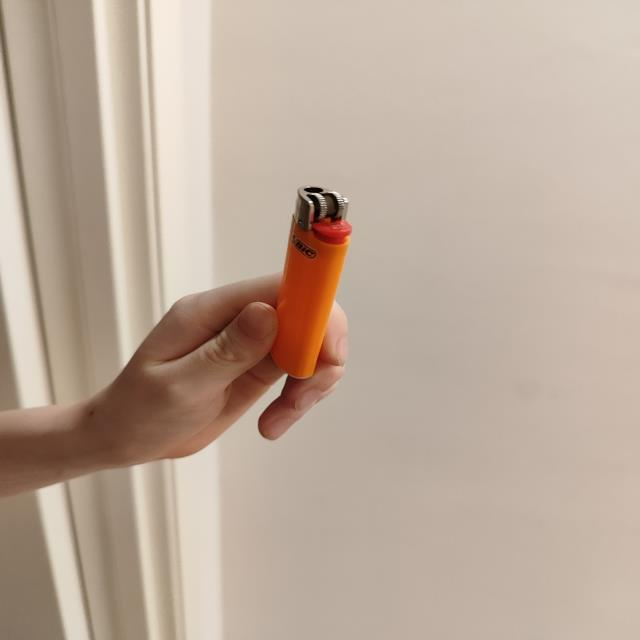lighter: (272, 187, 351, 377)
